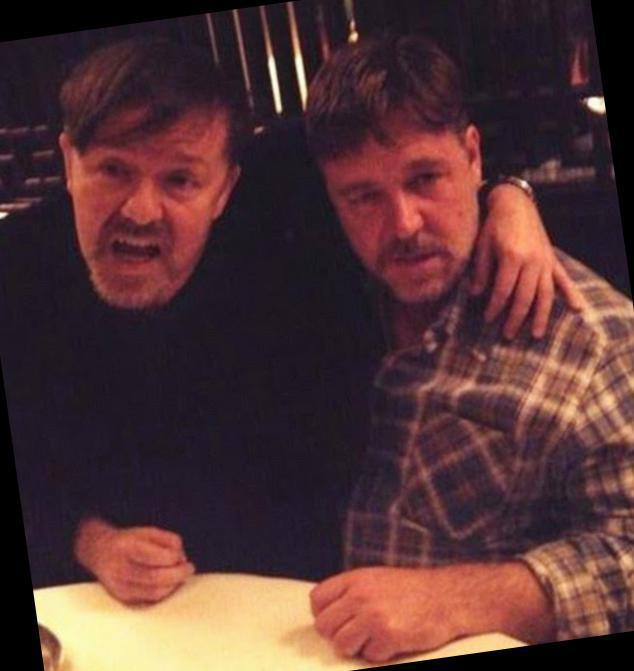Drunk: (71, 115, 216, 298), (321, 132, 473, 299)
